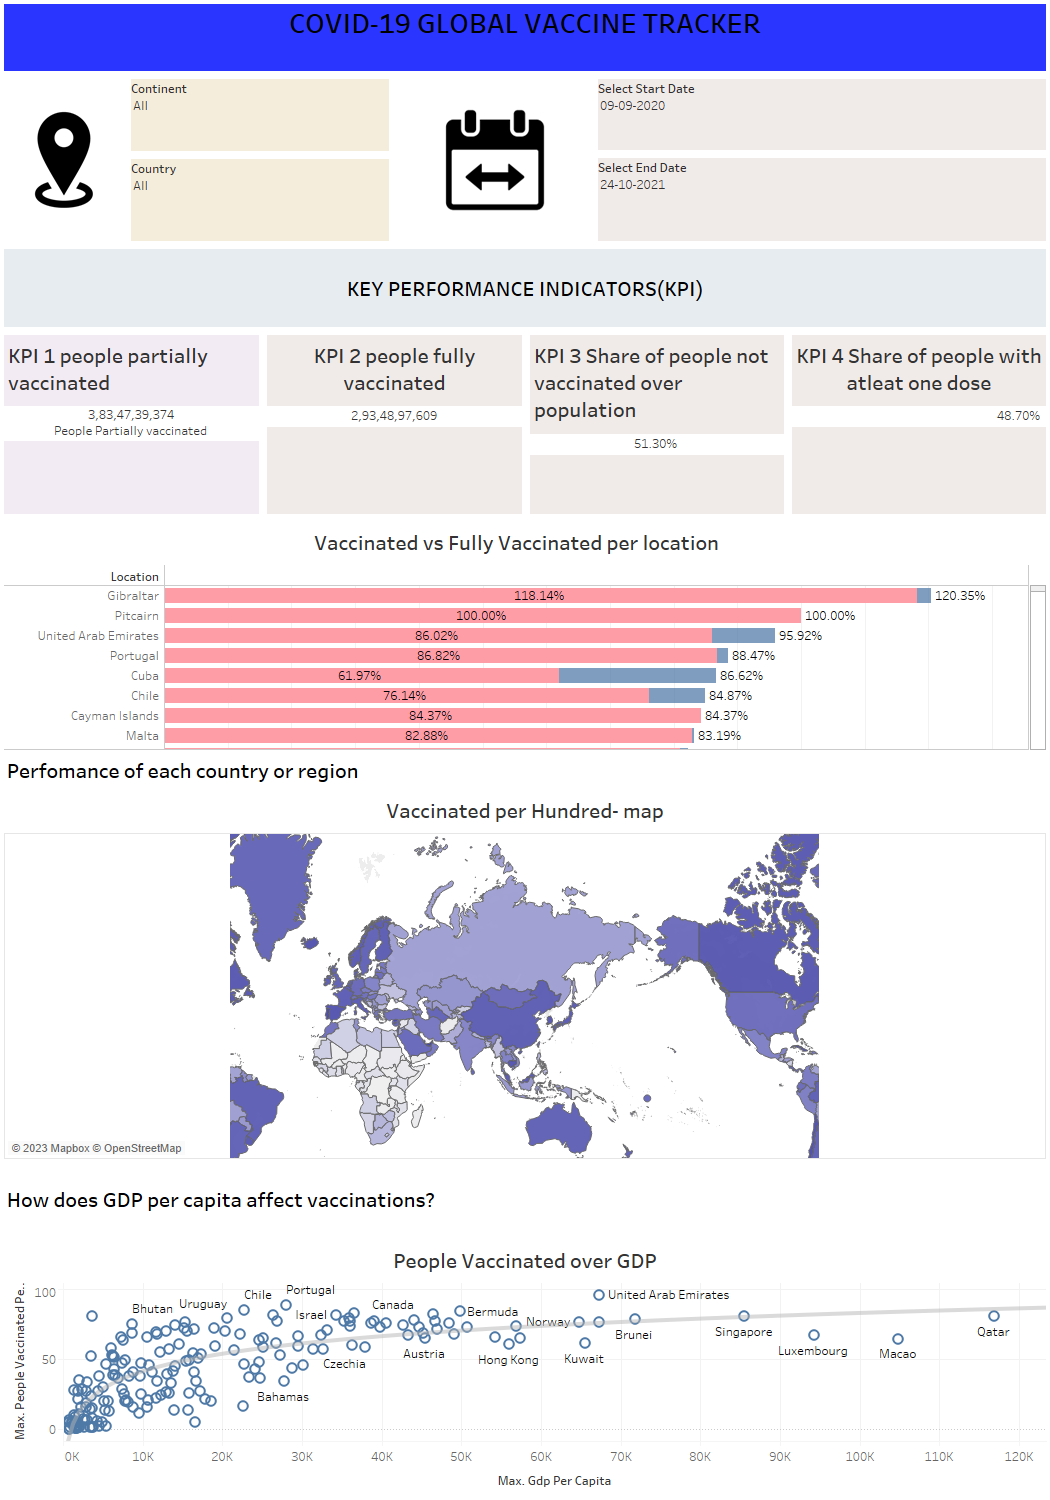

Layout of this report page (visuals, bound fields, positions):
{"tool":"tableau","page":{"name":"Global vaccine Tracker ","canvas":[1050,1500],"ordinal":0},"visuals":[{"type":"text","box":[0,0,1050,75]},{"type":"image","param":"C:/Users/Sammybravol/OneDrive/Desktop/Projects/Tableau Covid project/location-ic","box":[0,75,127,170.5]},{"type":"filter","title":"KPI 3 Share of people not vaccinated over population","param":"[federated.1gibea0043i2ed18kiy0f0uw1e87].[none:Continent:nk]","box":[127,75,266.3,80.5]},{"type":"image","param":"C:/Users/Sammybravol/OneDrive/Desktop/Projects/Tableau Covid project/DATE PNG.pn","box":[393.3,75,200.7,170.5]},{"type":"parameter","param":"[Parameters].[Parameter 1]","box":[594,75,456,78.8]},{"type":"parameter","param":"[Parameters].[Select Start Date (copy)_29554913708056576]","box":[594,153.8,456,91.6]},{"type":"filter","title":"KPI 3 Share of people not vaccinated over population","param":"[federated.1gibea0043i2ed18kiy0f0uw1e87].[none:Location (copy):nk]","box":[127,155.5,266.3,90]},{"type":"text","box":[0,245.5,1050,85.9]},{"type":"worksheet","title":"KPI 1 people partially vaccinated","mark":"Automatic","box":[0,331,263,187]},{"type":"worksheet","title":"KPI 2 people fully vaccinated ","mark":"Automatic","box":[263,331,263,187]},{"type":"worksheet","title":"KPI 3 Share of people not vaccinated over population","mark":"Automatic","box":[526,331,262,187]},{"type":"worksheet","title":"KPI 4 Share of people with atleat one dose","mark":"Automatic","box":[788,331,262,187]},{"type":"worksheet","title":"Vaccinated vs Fully Vaccinated per location","mark":"Bar","rows":["Location"],"cols":["Calculation_436286254818451457","People Partially vaccinated over population (copy)_436286254"],"box":[0,518.2,1050,235.8]},{"type":"text","box":[0,754,1050,32]},{"type":"worksheet","title":"Vaccinated per Hundred- map","mark":"Automatic","box":[0,786,1050,376.6]},{"type":"text","box":[0,1162.6,1050,73.6]},{"type":"worksheet","title":"People Vaccinated over GDP","mark":"Automatic","rows":["People Vaccinated Per Hundred"],"cols":["Gdp Per Capita"],"box":[0,1236.2,1050,263.8]}]}

Visuals, with their boxes in screenshot pixels (x1, y1, x2, y2), scaled from the page's 1050x1500 canvas onto the 1050x1500 screenshot:
text: (0,0,1049,75)
image: (0,75,127,246)
"KPI 3 Share of people not vaccinated over population" filter: (127,75,393,156)
image: (393,75,594,246)
parameter: (594,75,1049,154)
parameter: (594,154,1049,245)
"KPI 3 Share of people not vaccinated over population" filter: (127,156,393,246)
text: (0,246,1049,331)
"KPI 1 people partially vaccinated" worksheet: (0,331,263,518)
"KPI 2 people fully vaccinated " worksheet: (263,331,526,518)
"KPI 3 Share of people not vaccinated over population" worksheet: (526,331,788,518)
"KPI 4 Share of people with atleat one dose" worksheet: (788,331,1049,518)
"Vaccinated vs Fully Vaccinated per location" worksheet (Bar marks): (0,518,1049,754)
text: (0,754,1049,786)
"Vaccinated per Hundred- map" worksheet: (0,786,1049,1163)
text: (0,1163,1049,1236)
"People Vaccinated over GDP" worksheet: (0,1236,1049,1499)
